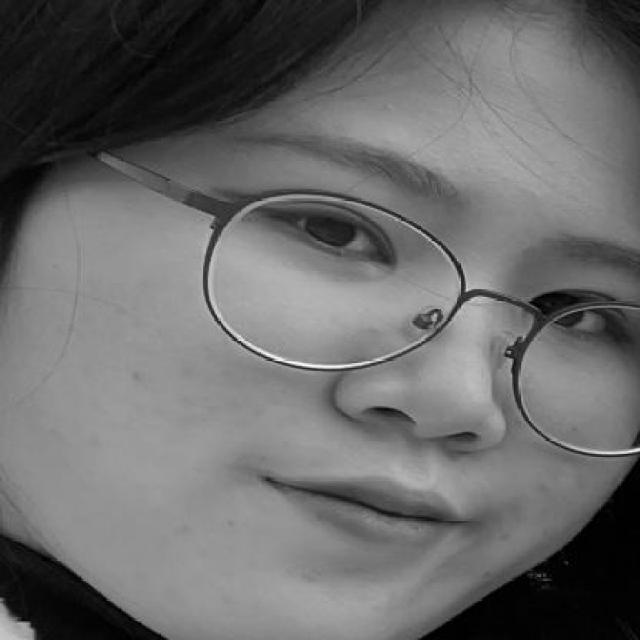happy: (74, 180, 640, 563)
